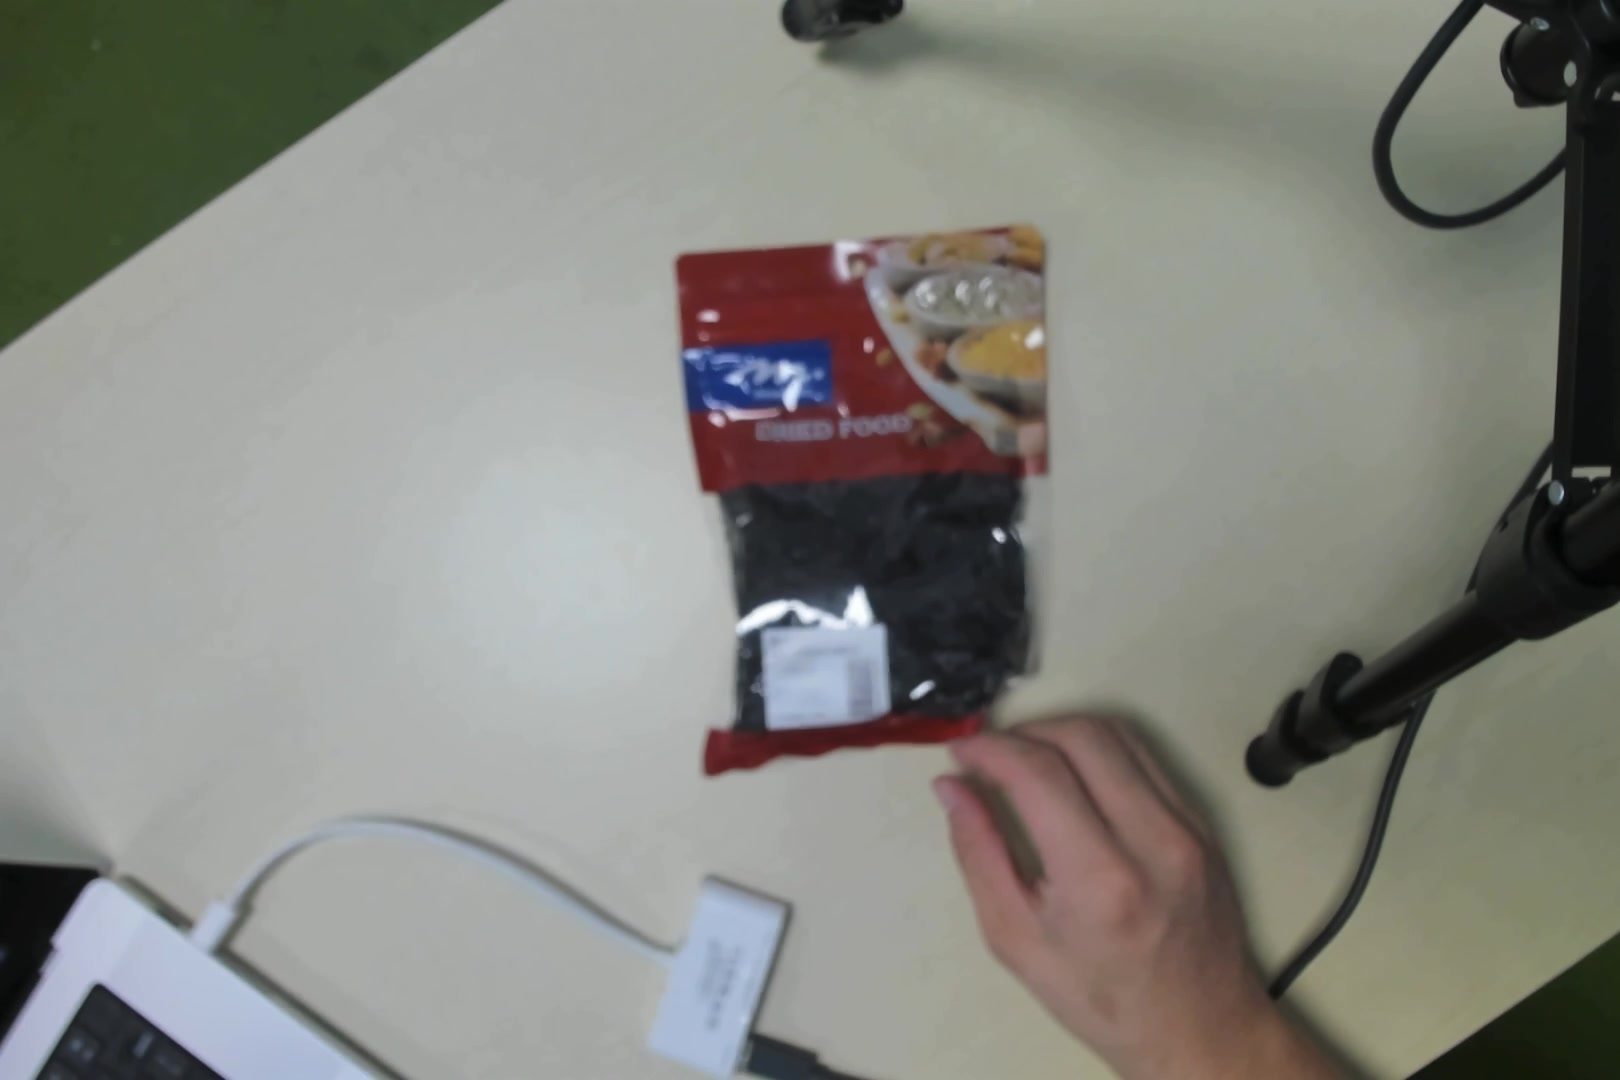OtherDriedFood_100-199g_NonHalal_NonHealthy: (704, 192, 1045, 744)
